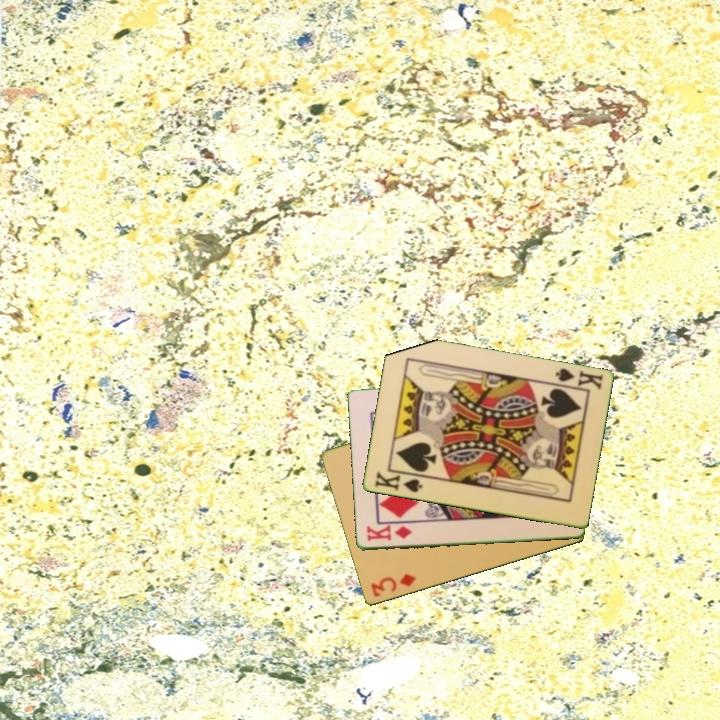3d: (367, 570, 419, 600)
Kd: (363, 522, 415, 544)
Ks: (549, 365, 605, 393), (371, 468, 426, 496)
